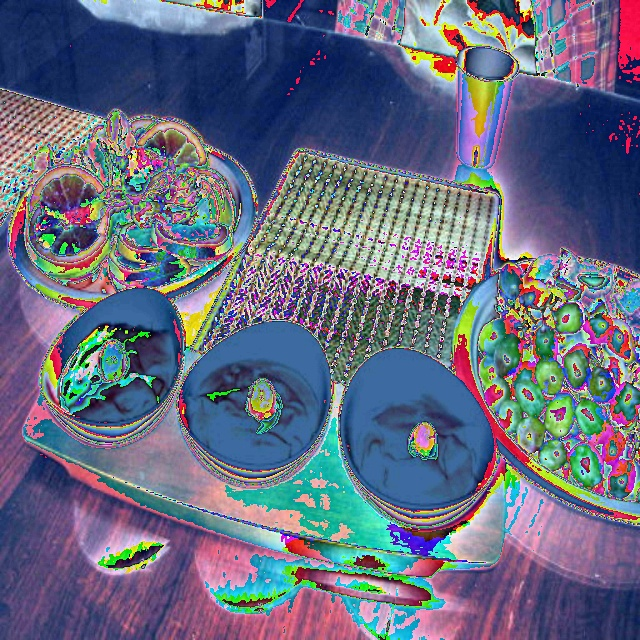background: (133, 111, 486, 504), (162, 245, 639, 499), (140, 108, 327, 466), (25, 109, 233, 291), (58, 102, 173, 421)
